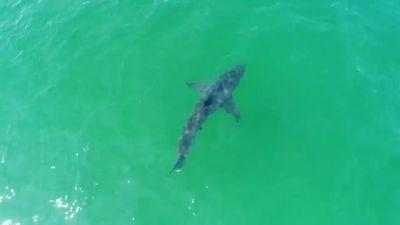shark: (166, 61, 248, 178)
